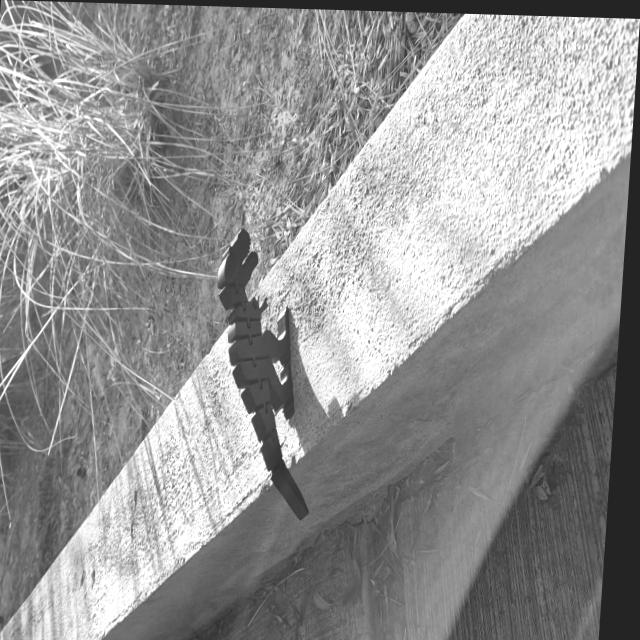dino: (199, 227, 328, 522)
